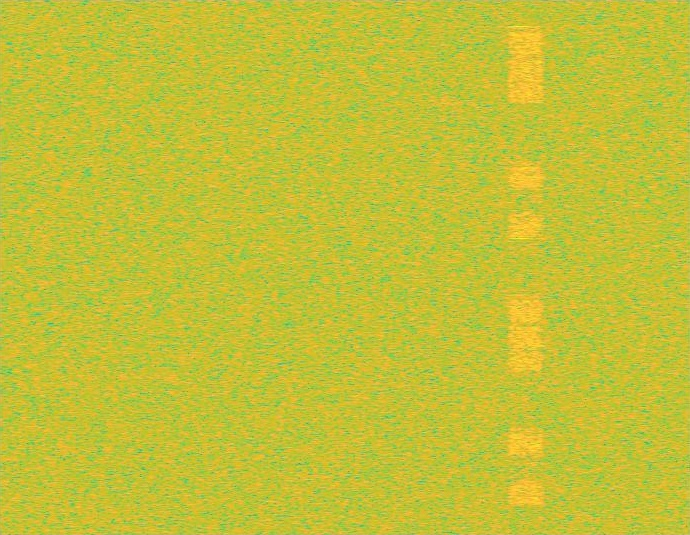LTE: (509, 0, 543, 534)
Radar: (514, 0, 527, 534)
